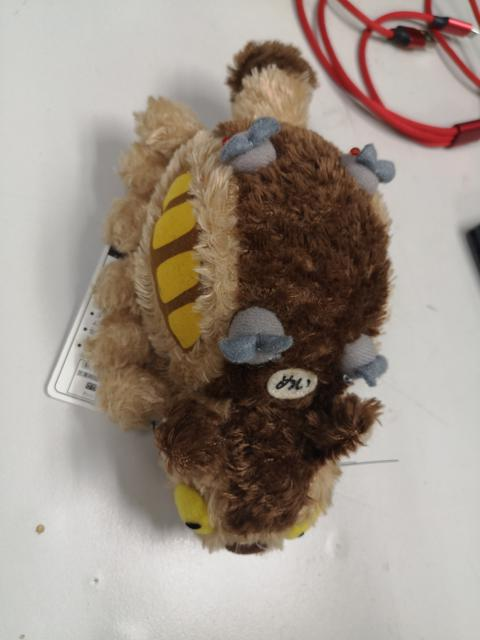nekobus: (78, 31, 409, 566)
